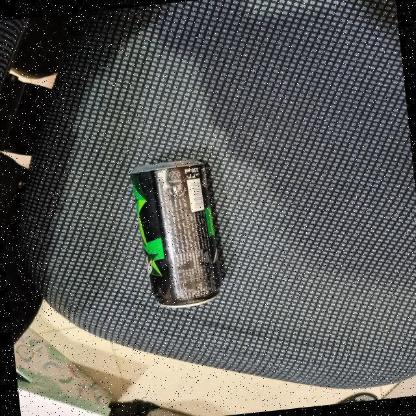Can: (130, 157, 228, 313)
